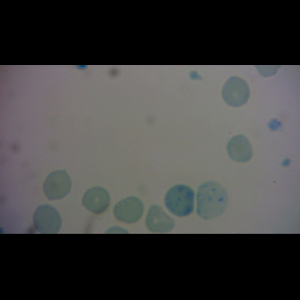aggregate reticulocyte: (164, 184, 196, 217)
erythrocyte: (43, 169, 73, 203), (81, 185, 112, 215), (113, 195, 144, 225), (144, 204, 176, 233), (226, 134, 254, 164)
punctate reticulocyte: (195, 180, 230, 220), (220, 75, 252, 109), (32, 203, 63, 234)
